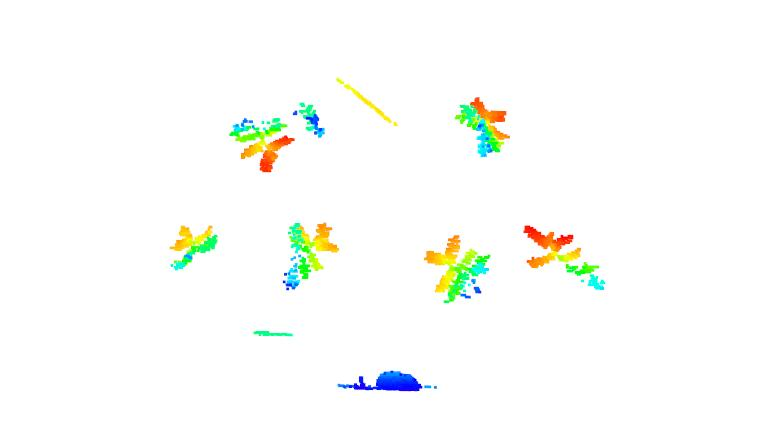chickpea: (422, 233, 495, 307), (522, 225, 605, 290), (280, 220, 341, 292), (232, 115, 297, 176), (454, 92, 510, 157), (168, 221, 223, 278), (291, 99, 328, 138)
